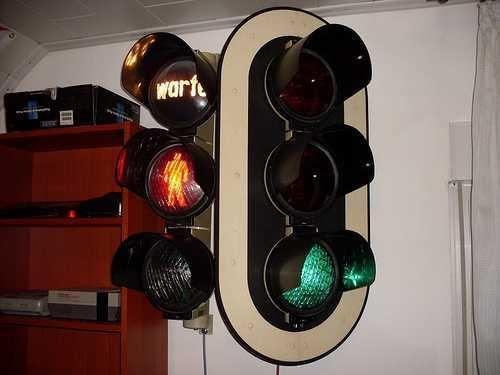2: (242, 8, 380, 358)
7: (128, 138, 215, 218)
red traffic light: (268, 224, 366, 330)
